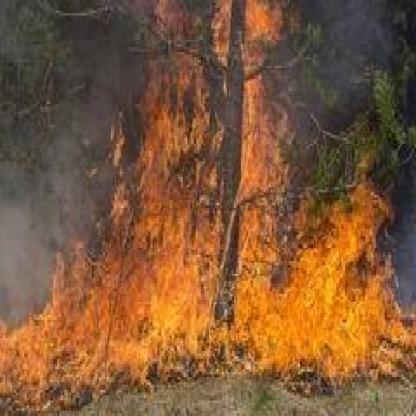fire: (0, 208, 411, 377), (136, 1, 284, 203)
smoke: (51, 63, 107, 230), (0, 160, 50, 316), (297, 4, 378, 95)
